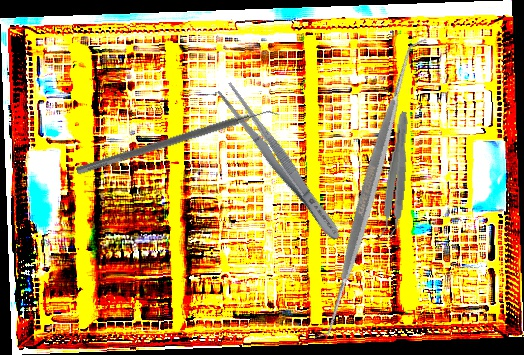Dressing Forceps: (214, 80, 347, 245)
Spatula Surgical: (220, 36, 521, 341), (75, 101, 282, 184)
Tissue Forceps: (377, 110, 413, 242)
